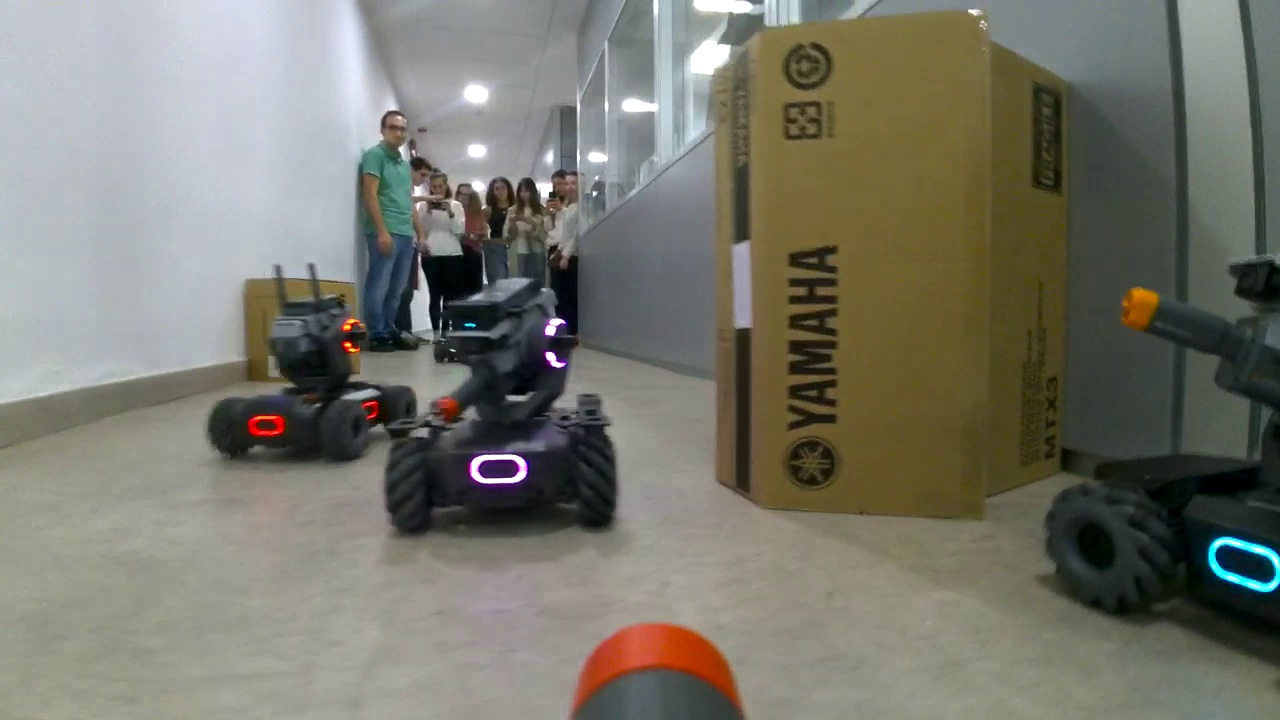robot: (385, 276, 618, 536), (202, 297, 405, 468)
